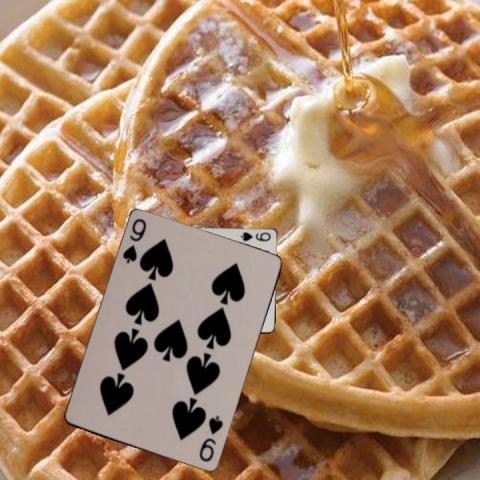9s: (196, 413, 225, 464), (119, 216, 148, 266), (237, 229, 271, 243)
